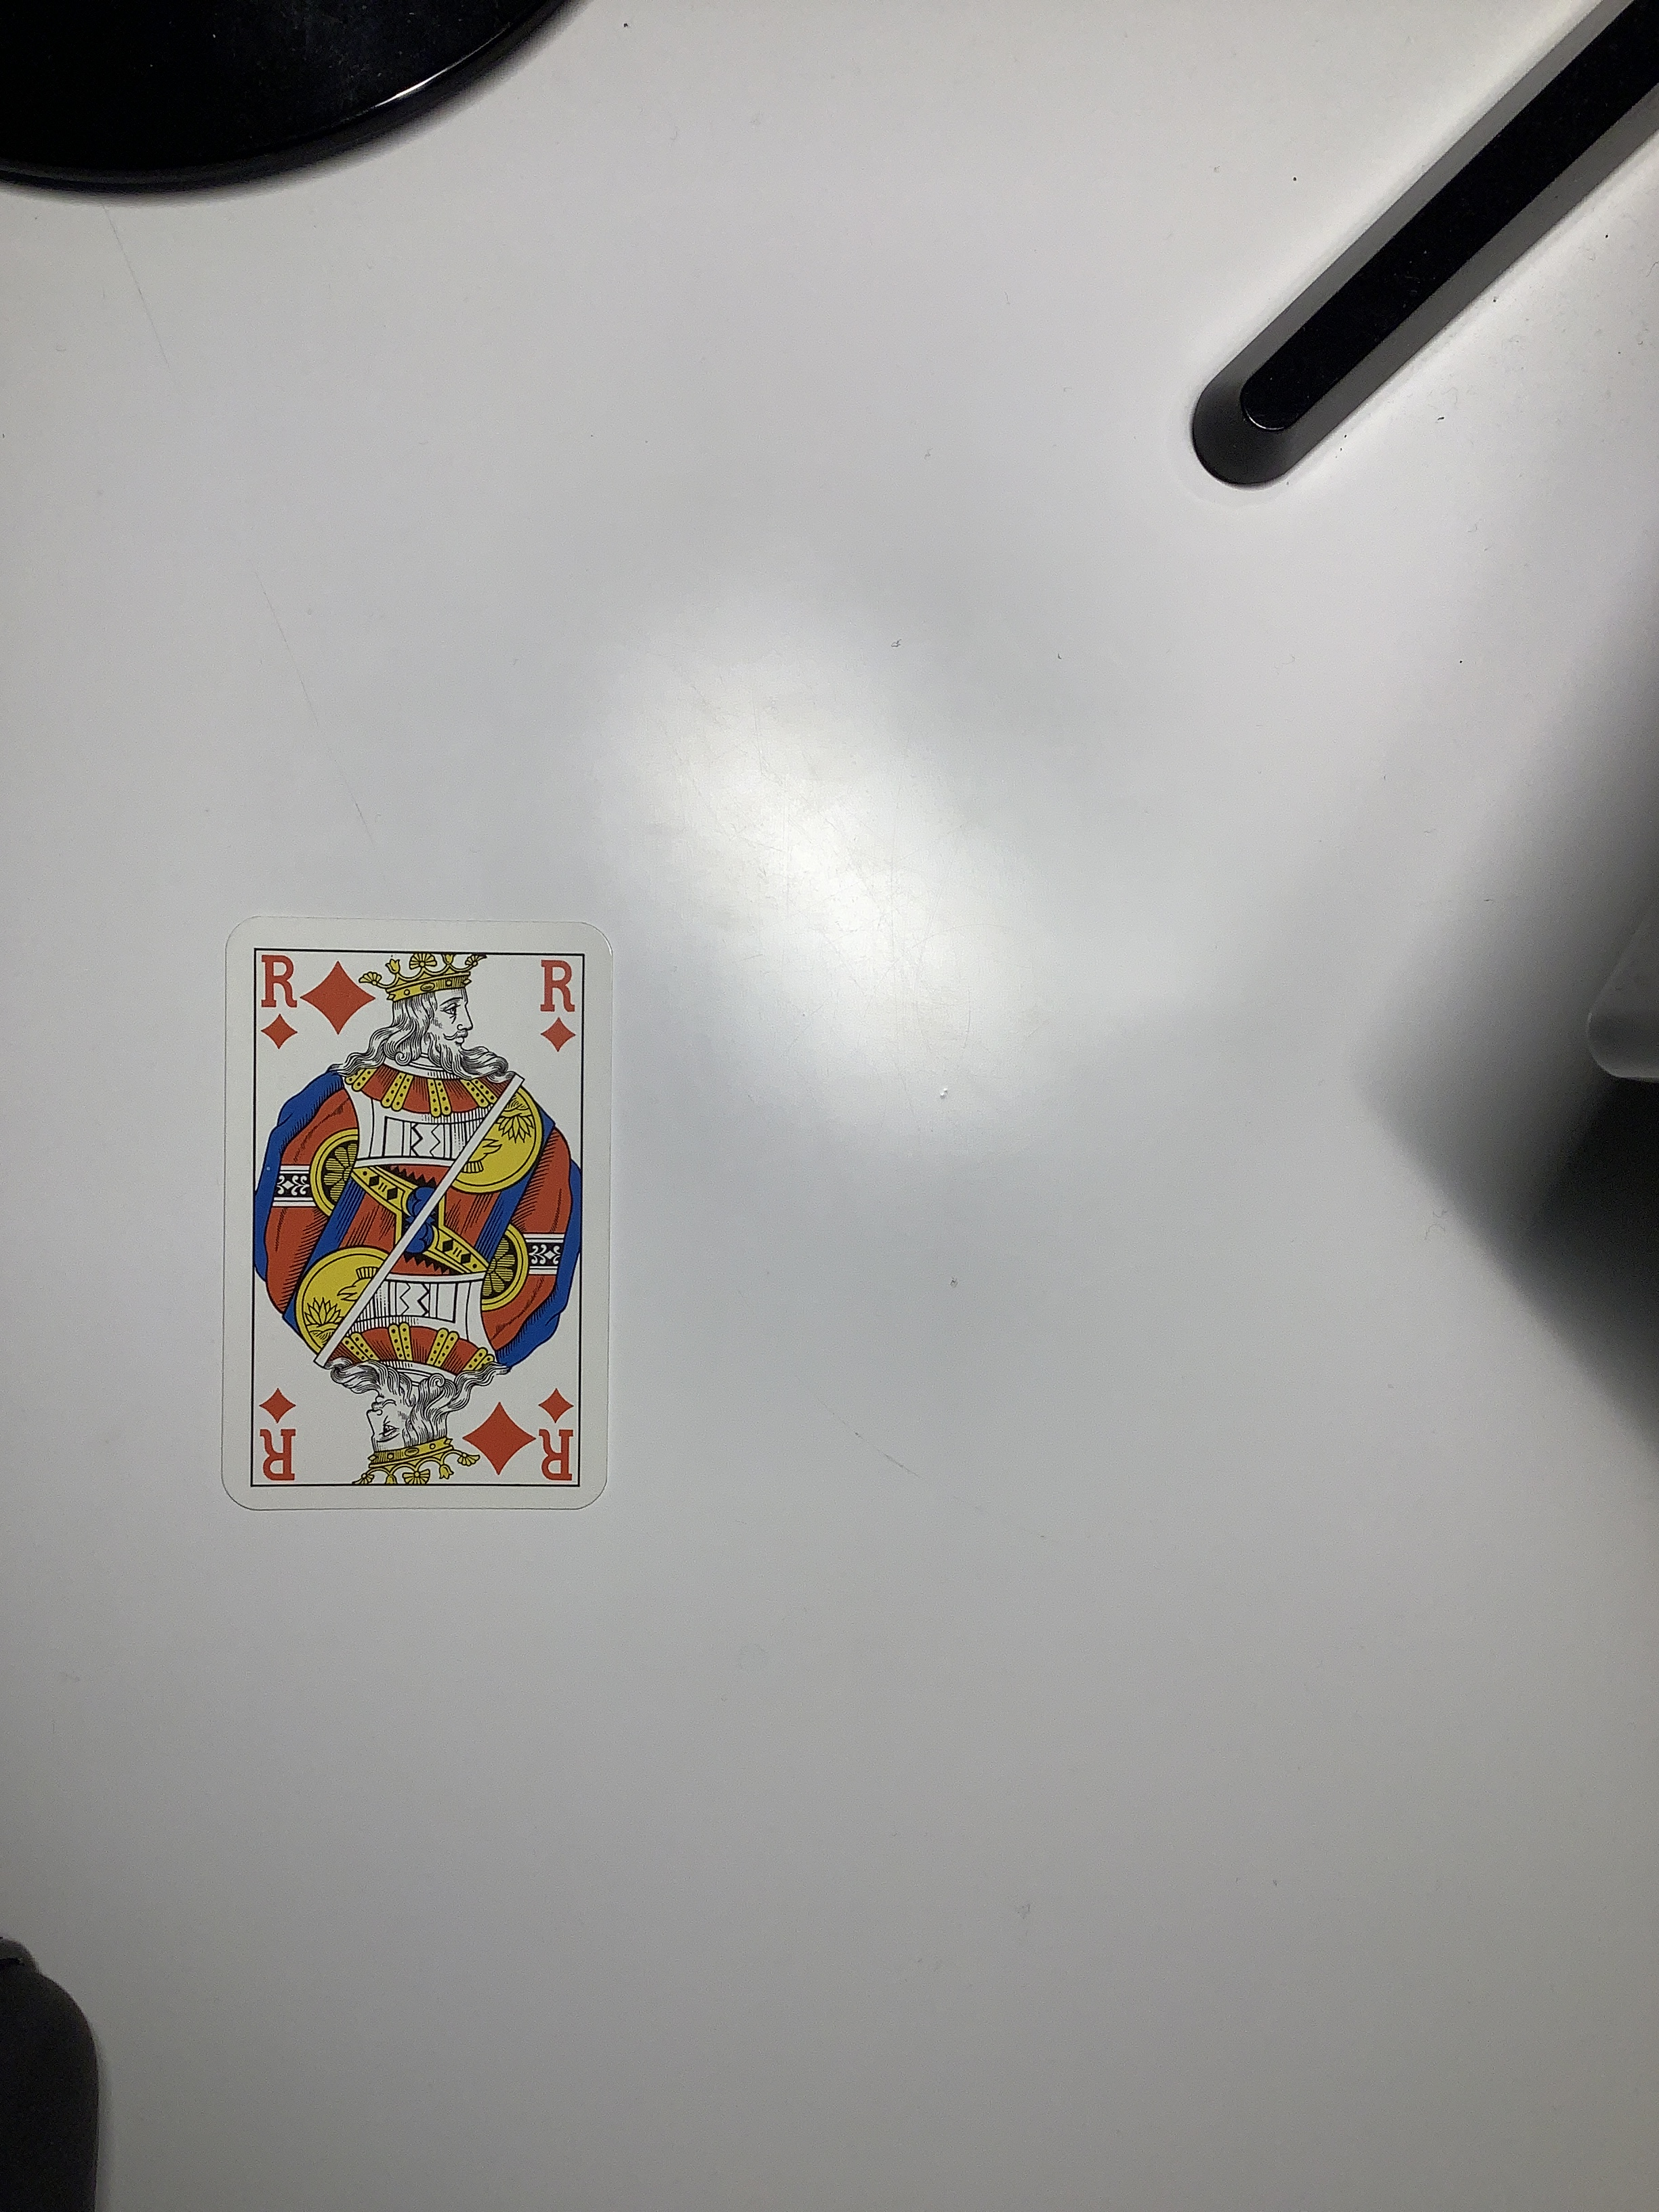♦ K: (207, 899, 626, 1534)
